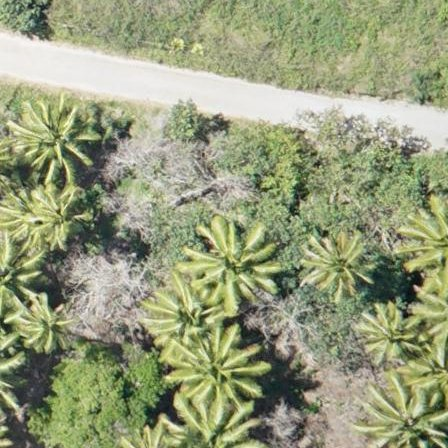palm_tree: (5, 90, 101, 193), (169, 323, 264, 424), (175, 213, 269, 313), (299, 222, 381, 308), (12, 290, 87, 370), (365, 379, 447, 448), (361, 302, 415, 361), (424, 267, 448, 343)
